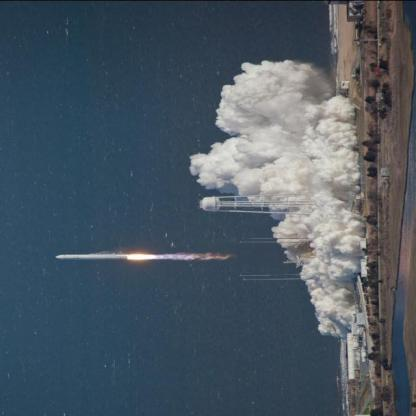MIL_TBM: (53, 252, 134, 262)
